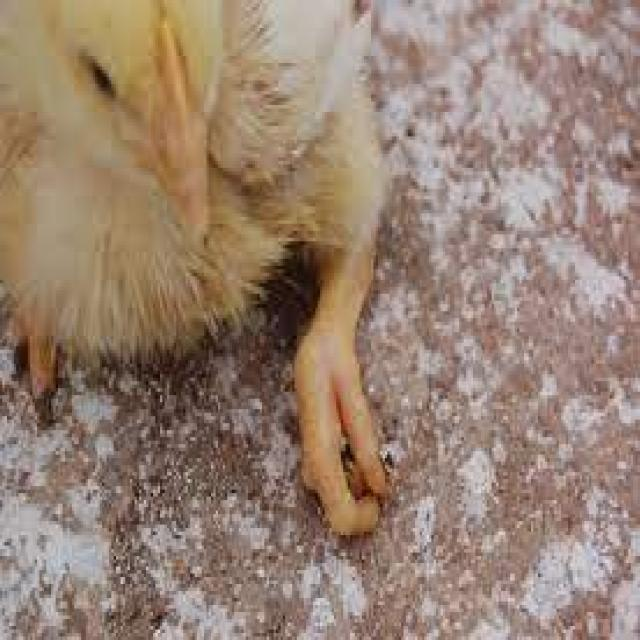AbNormal: (260, 215, 394, 537)
